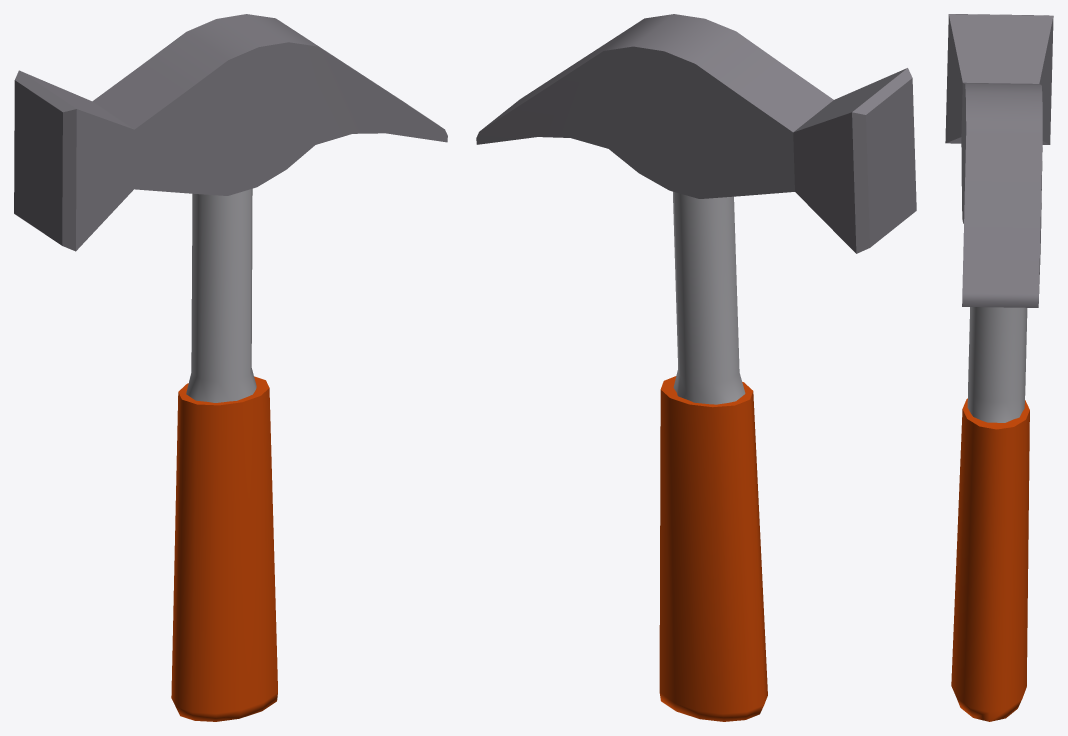
The model's file is Hammer_03.fbx.
3 views of the same model, side by side, from view 1: azimuth 30°, elevation 25°; view 2: azimuth 150°, elevation 25°; view 3: azimuth 270°, elevation 25° (orthographic). The views are drawn at different scales.
Parts seen in each view (by area): view 1: Hammer_03; view 2: Hammer_03; view 3: Hammer_03.
Part boxes in pixels (x1,y1,x2,y2): Hammer_03: (14, 14, 447, 721); Hammer_03: (476, 14, 916, 721); Hammer_03: (945, 14, 1053, 721).
Size of the model in its own units: 25.25 by 6.51 by 41.19.
